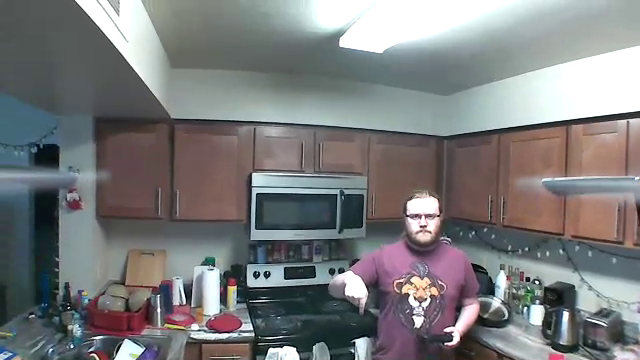down: (340, 270, 371, 318)
